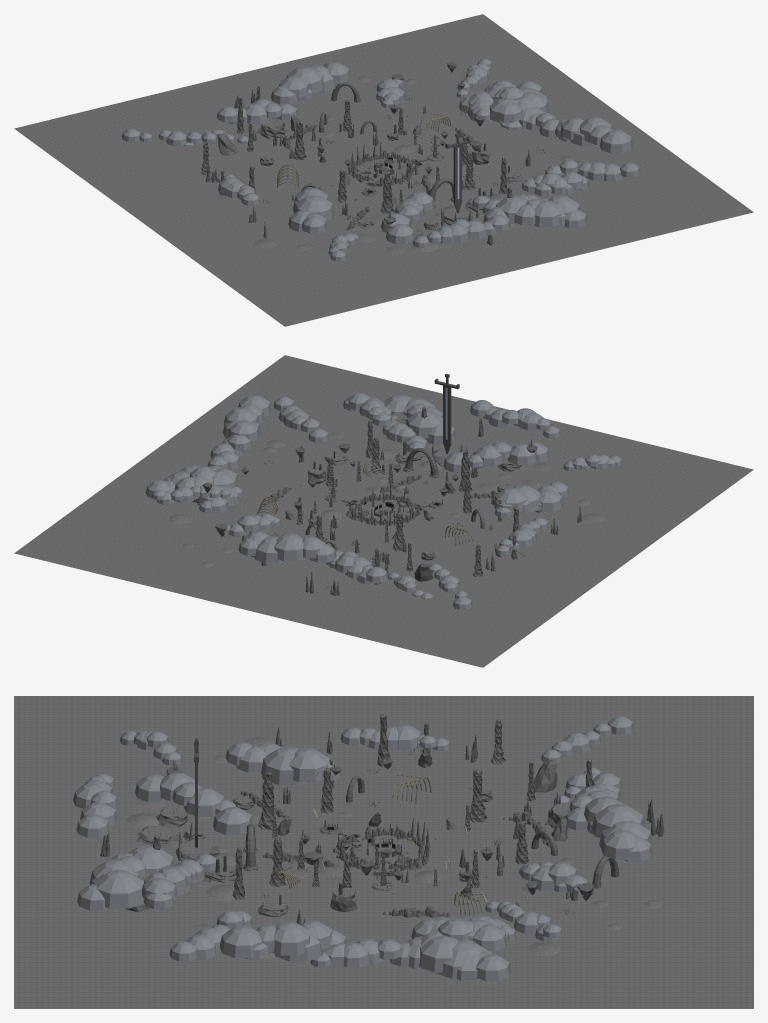
The model's file is InkboundMaps_Lobby.fbx.
3 renders of one model, top to bottom at view 1: azimuth 30°, elevation 25°; view 2: azimuth 150°, elevation 25°; view 3: azimuth 270°, elevation 25°, orthographic. The views are drawn at different scales.
Parts seen in each view (by area): view 1: Map_Lobby_Ash_23, Map_Lobby_Ash_27, Map_Lobby_Ash_26, Map_Lobby_Ash_31, Map_Lobby_Ash_30, Map_Lobby_Ash_25, Map_Lobby_Ash_22, Map_Lobby_Ash_21, Map_Lobby_Ash_28, Map_Lobby_Ash_24, Map_Lobby_CloudBank_5, Map_Lobby_Ash_18 (+17 smaller); view 2: Map_Lobby_Ash_22, Map_Lobby_Ash_27, Map_Lobby_Ash_26, Map_Lobby_Ash_23, Map_Lobby_Ash_24, Map_Lobby_Ash_30, Map_Lobby_Ash_31, Map_Lobby_Ash_28, Map_Lobby_Ash_19, Map_Lobby_Ash_25, Map_Lobby_CloudBank_8, Map_Lobby_CloudBank_4 (+18 smaller); view 3: Map_Lobby_Ash_27, Map_Lobby_Ash_23, Map_Lobby_Ash_26, Map_Lobby_Ash_24, Map_Lobby_Ash_22, Map_Lobby_Ash_18, Map_Lobby_Ash_28, Map_Lobby_Ash_30, Map_Lobby_Ash_19, Map_Lobby_Ash_25, Map_Lobby_Ash_31, Map_Lobby_Ash_21 (+18 smaller).
Part boxes in pixels (x1,y1,x2,y2): Map_Lobby_Ash_23: (294,67,539,161); Map_Lobby_Ash_27: (137,104,360,208); Map_Lobby_Ash_26: (228,181,457,274); Map_Lobby_Ash_31: (59,142,226,227); Map_Lobby_Ash_30: (150,208,317,293); Map_Lobby_Ash_25: (318,239,518,307); Map_Lobby_Ash_22: (407,132,630,226); Map_Lobby_Ash_21: (478,198,675,269); Map_Lobby_Ash_28: (92,71,293,142); Map_Lobby_Ash_24: (249,33,447,104); Map_Lobby_CloudBank_5: (297,62,539,130); Map_Lobby_Ash_18: (548,113,708,198); Map_Lobby_Ash_22: (232,407,473,501); Map_Lobby_Ash_27: (294,521,539,615); Map_Lobby_Ash_26: (405,445,630,549); Map_Lobby_Ash_23: (137,476,360,577); Map_Lobby_Ash_24: (92,539,293,610); Map_Lobby_Ash_30: (541,483,708,568); Map_Lobby_Ash_31: (450,549,617,634); Map_Lobby_Ash_28: (249,577,449,648); Map_Lobby_Ash_19: (59,454,193,539); Map_Lobby_Ash_25: (474,419,675,483); Map_Lobby_CloudBank_8: (443,441,617,533); Map_Lobby_CloudBank_4: (227,392,456,469); Map_Lobby_Ash_27: (384,748,630,852); Map_Lobby_Ash_23: (384,852,630,956); Map_Lobby_Ash_26: (133,748,383,852); Map_Lobby_Ash_24: (630,852,753,956); Map_Lobby_Ash_22: (137,842,385,956); Map_Lobby_Ash_18: (137,955,383,1008); Map_Lobby_Ash_28: (630,748,753,852); Map_Lobby_Ash_30: (137,696,383,748); Map_Lobby_Ash_19: (384,956,630,1008); Map_Lobby_Ash_25: (14,748,139,852); Map_Lobby_Ash_31: (384,696,630,748); Map_Lobby_Ash_21: (14,852,137,956).
Size of the model in its own units: 3000 by 782 by 3000.
24 materials, 5 textured.
